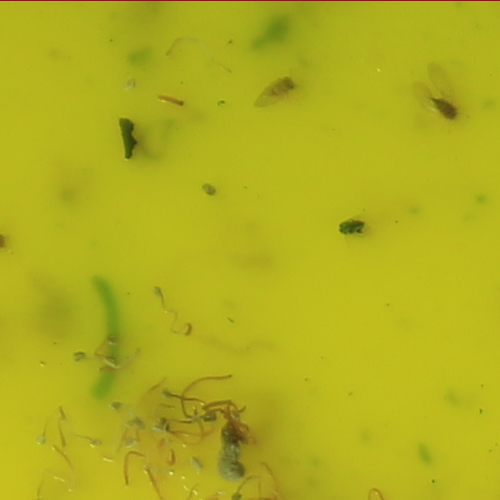psylla: (263, 70, 300, 97), (428, 91, 459, 123)
